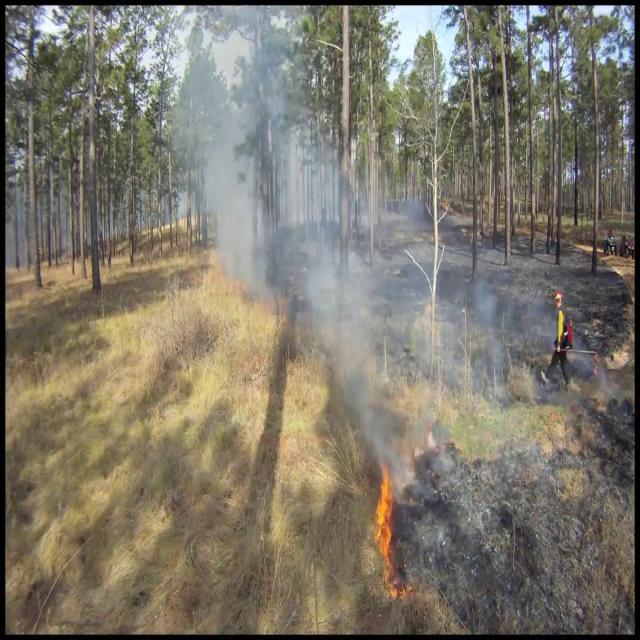Fire: (372, 462, 398, 588)
Smoke: (190, 82, 528, 483)
